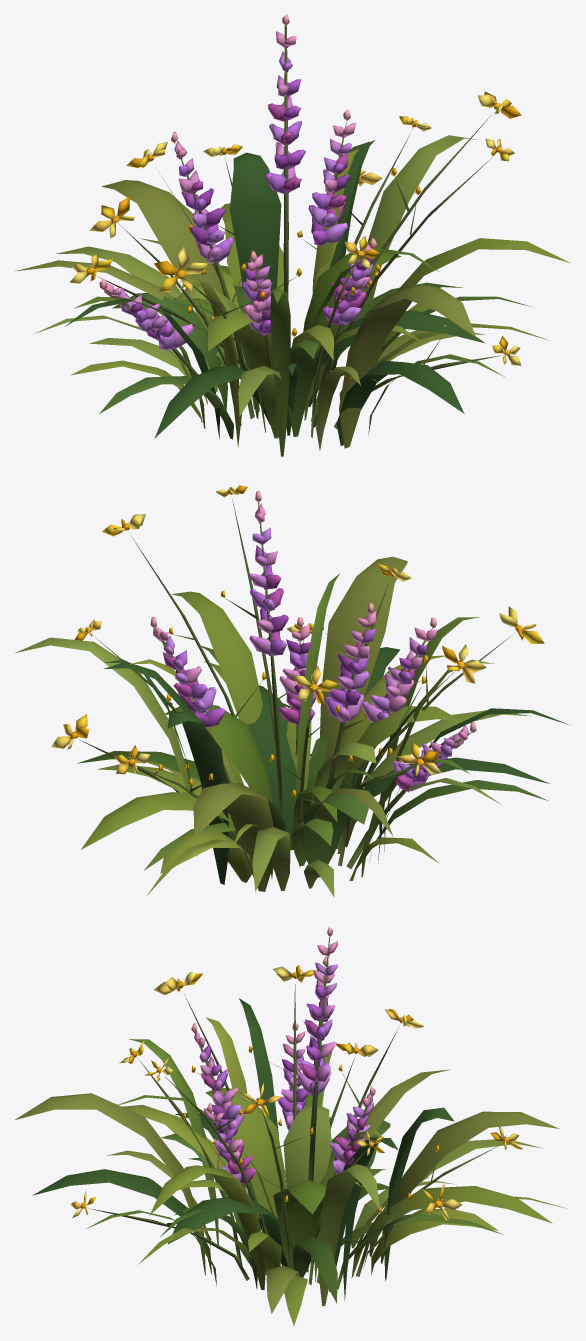
File: wsc-prop-047-wildflower-clump-far.glb
3 renders of one model, top to bottom at view 1: azimuth 30°, elevation 25°; view 2: azimuth 150°, elevation 25°; view 3: azimuth 270°, elevation 25°, orthographic. The views are drawn at different scales.
Visible parts, largest first — view 1: Far · 01 Meadow blades and stalks, Far · 02 Lupine and buttercup petals; view 2: Far · 01 Meadow blades and stalks, Far · 02 Lupine and buttercup petals; view 3: Far · 01 Meadow blades and stalks, Far · 02 Lupine and buttercup petals.
Part boxes in pixels (<box>): Far · 01 Meadow blades and stalks: <box>15,25,570,456</box>; Far · 02 Lupine and buttercup petals: <box>69,14,521,379</box>; Far · 01 Meadow blades and stalks: <box>14,499,569,896</box>; Far · 02 Lupine and buttercup petals: <box>51,485,544,796</box>; Far · 01 Meadow blades and stalks: <box>14,937,566,1325</box>; Far · 02 Lupine and buttercup petals: <box>70,926,522,1221</box>.
Bounding box in the file's own units: 1.04 × 0.7732 × 1.11.
